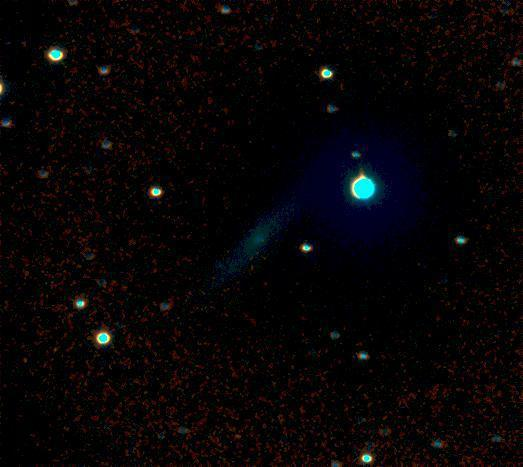star: (200, 247, 230, 277)
